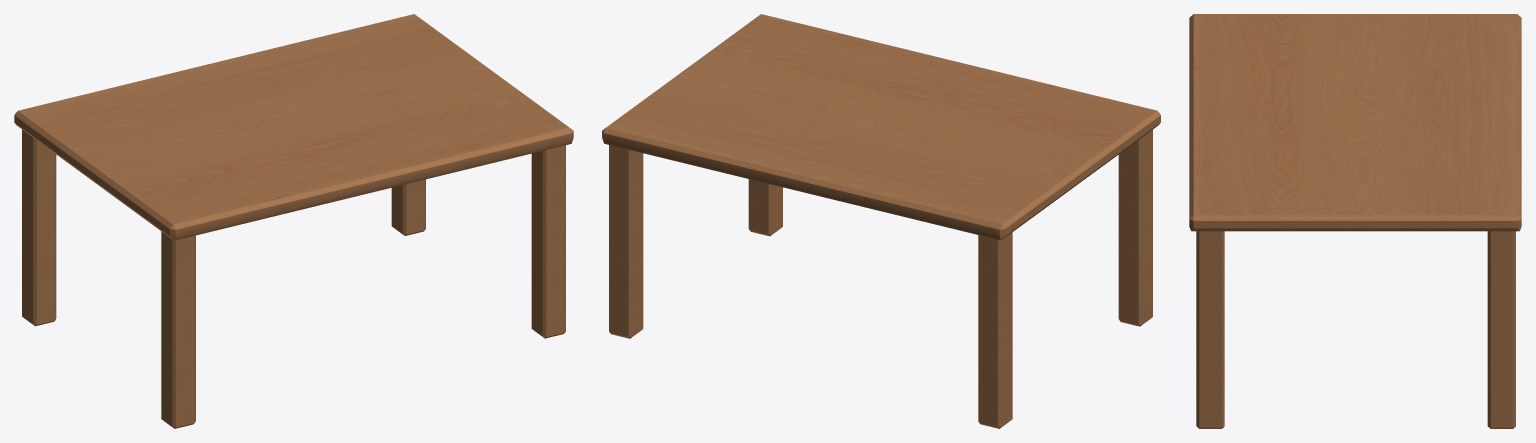
File: Desk.fbx
3 views of the same model, side by side, from view 1: azimuth 30°, elevation 25°; view 2: azimuth 150°, elevation 25°; view 3: azimuth 270°, elevation 25° (orthographic). The views are drawn at different scales.
Parts seen in each view (by area): view 1: Desk; view 2: Desk; view 3: Desk.
Part boxes in pixels (x1,y1,x2,y2): Desk: [14, 14, 573, 428]; Desk: [602, 14, 1160, 428]; Desk: [1189, 14, 1521, 428].
Bounding box in the file's own units: 11.48 × 5.63 × 7.87.
